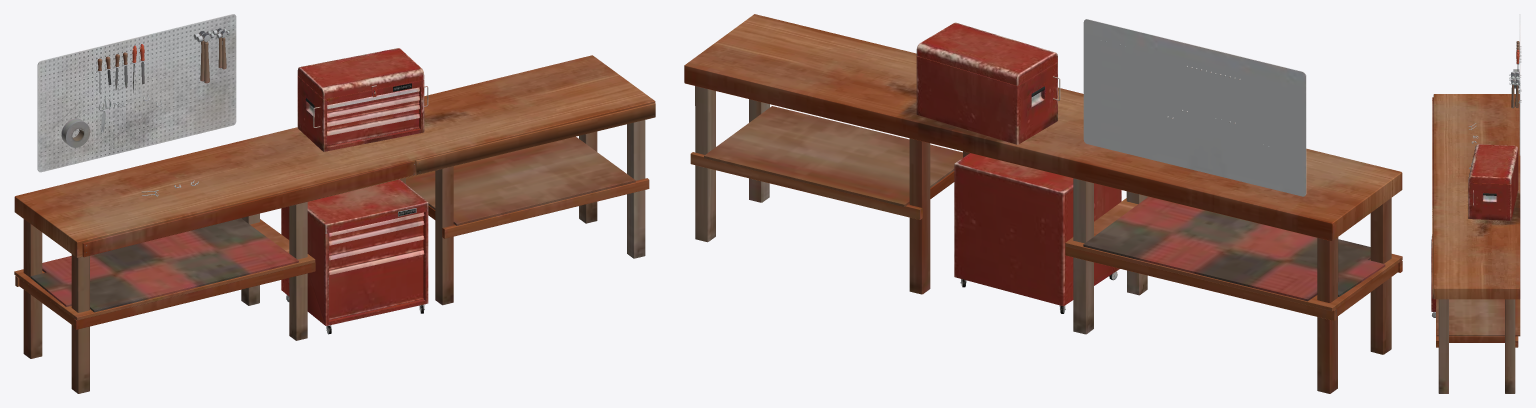
The model's file is workbench-pegboard.gltf.
3 views of the same model, side by side, from view 1: azimuth 30°, elevation 25°; view 2: azimuth 150°, elevation 25°; view 3: azimuth 270°, elevation 25° (orthographic). The views are drawn at different scales.
Visible parts, largest first — view 1: Sketchfab_model; view 2: Sketchfab_model; view 3: Sketchfab_model.
Boxes of the visible parts, x1=… form: Sketchfab_model: x1=14, y1=14, x2=655, y2=393; Sketchfab_model: x1=684, y1=14, x2=1402, y2=393; Sketchfab_model: x1=1431, y1=14, x2=1521, y2=393.
Size of the model in its own units: 3.72 by 1.75 by 0.7276.
1 material, 1 textured.
